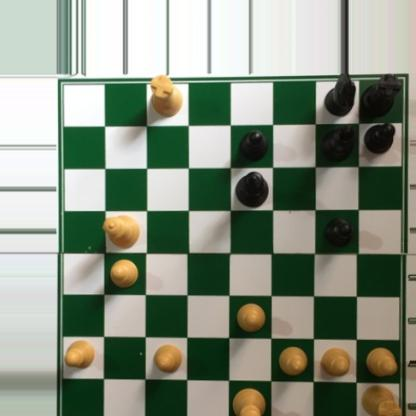black-bishop: (317, 122, 354, 161)
black-king: (234, 167, 270, 209)
black-knight: (322, 73, 358, 120)
black-pawn: (364, 121, 396, 154), (237, 130, 267, 162), (324, 218, 354, 248)
black-rook: (360, 73, 401, 119)
white-king: (231, 384, 267, 416)
white-pawn: (63, 336, 97, 370), (151, 341, 185, 375), (363, 345, 397, 379), (108, 257, 141, 291), (277, 345, 310, 378), (319, 347, 352, 378), (236, 303, 267, 333)
white-queen: (99, 213, 140, 249)
white-rook: (146, 74, 183, 120), (358, 380, 401, 416)
